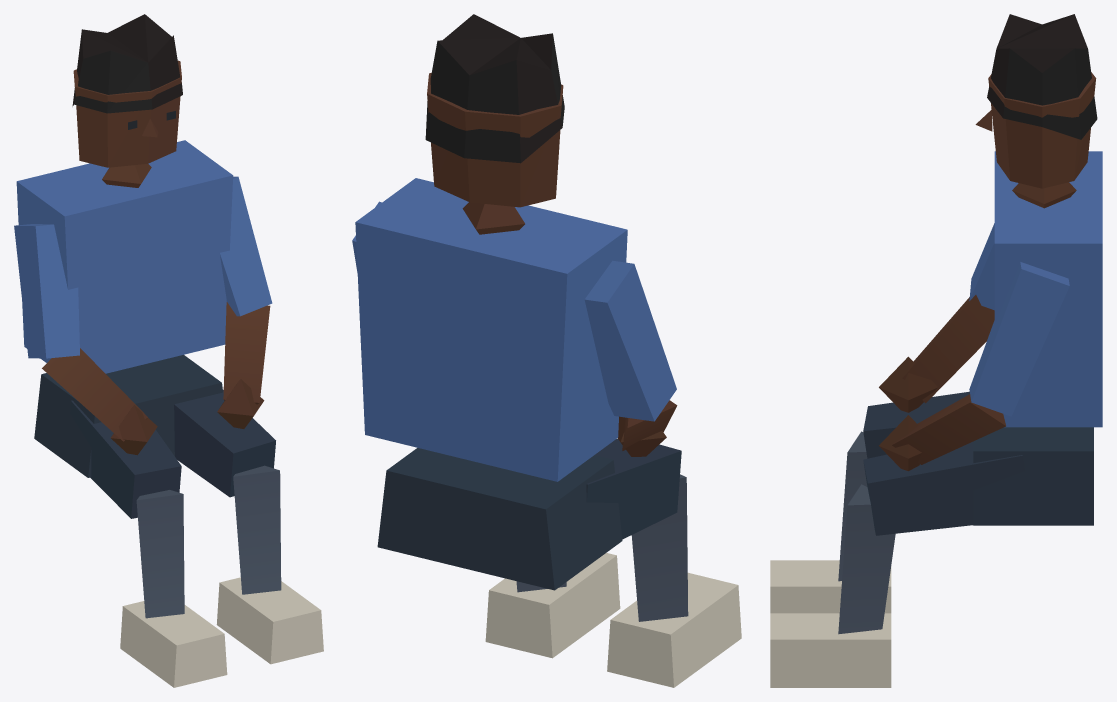
File: fan-04.glb
The picture shows the model from 3 angles, left to right: view 1: azimuth 30°, elevation 25°; view 2: azimuth 150°, elevation 25°; view 3: azimuth 270°, elevation 25°; orthographic projection. The views are drawn at different scales.
Parts seen in each view (by area): view 1: fan-04; view 2: fan-04; view 3: fan-04.
Part boxes in pixels (left/top/right/bottom): fan-04: left=14, top=14, right=323, bottom=687; fan-04: left=352, top=14, right=741, bottom=687; fan-04: left=770, top=14, right=1102, bottom=687.
Bounding box in the file's own units: 0.6863 × 1.57 × 0.77.
